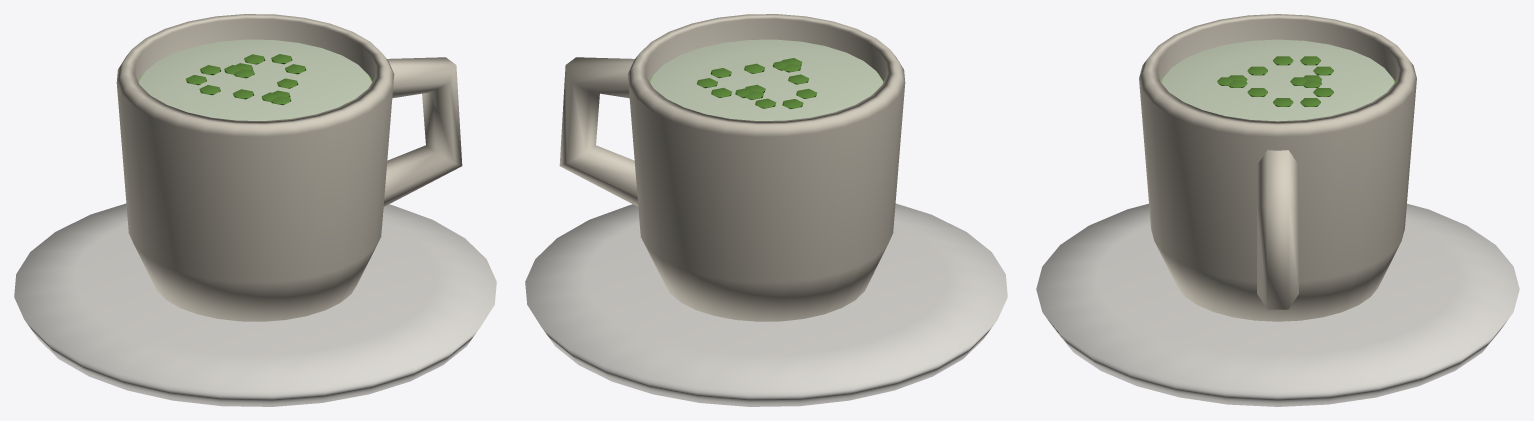
File: item_drink_matcha.glb
The picture shows the model from 3 angles, left to right: view 1: azimuth 30°, elevation 25°; view 2: azimuth 150°, elevation 25°; view 3: azimuth 270°, elevation 25°; orthographic projection.
Visible parts, largest first — view 1: item_drink_matcha_main; view 2: item_drink_matcha_main; view 3: item_drink_matcha_main.
Boxes of the visible parts, x1,y1,x2,y2 form: item_drink_matcha_main: [14, 14, 496, 406]; item_drink_matcha_main: [525, 14, 1007, 406]; item_drink_matcha_main: [1036, 14, 1519, 406].
Size of the model in its own units: 0.16 by 0.088 by 0.16.
